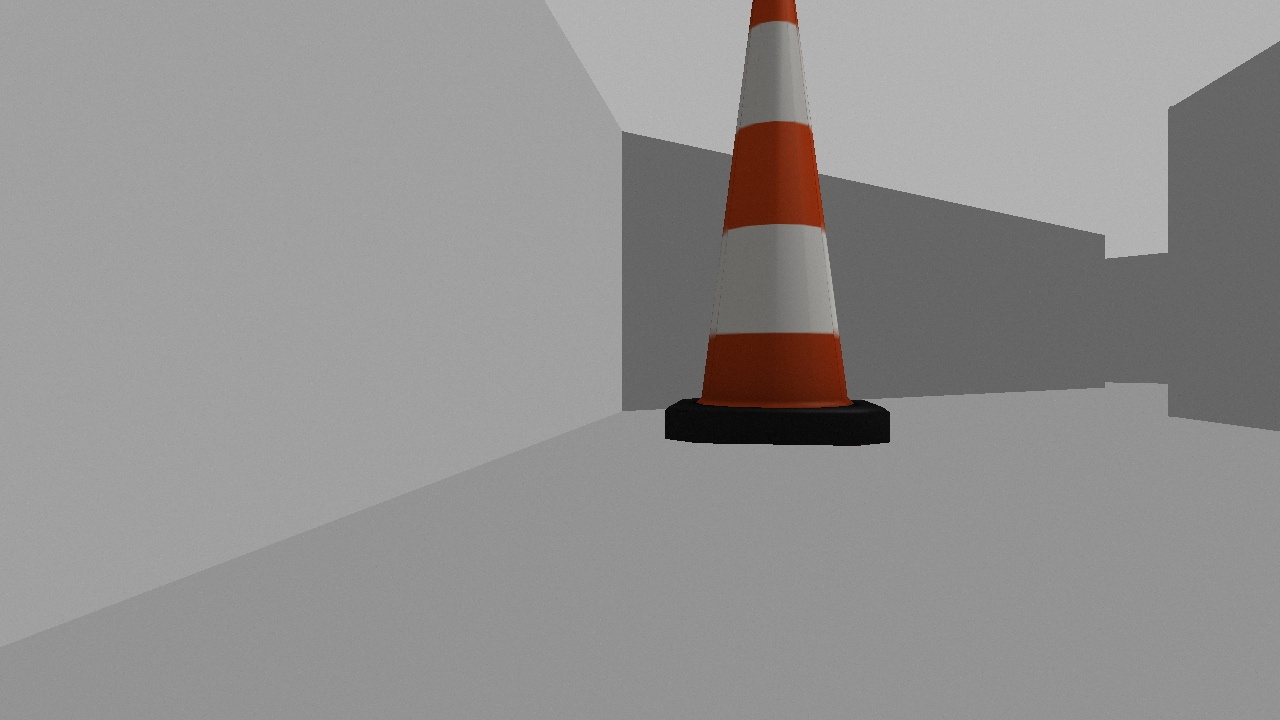barricade: (660, 1, 903, 447)
